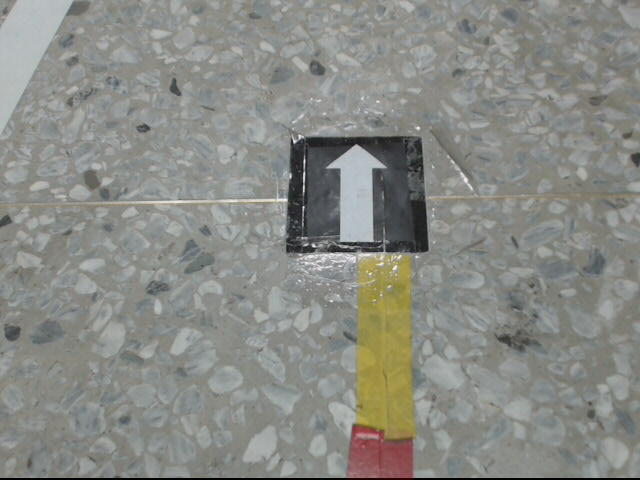straight: (287, 137, 429, 251)
